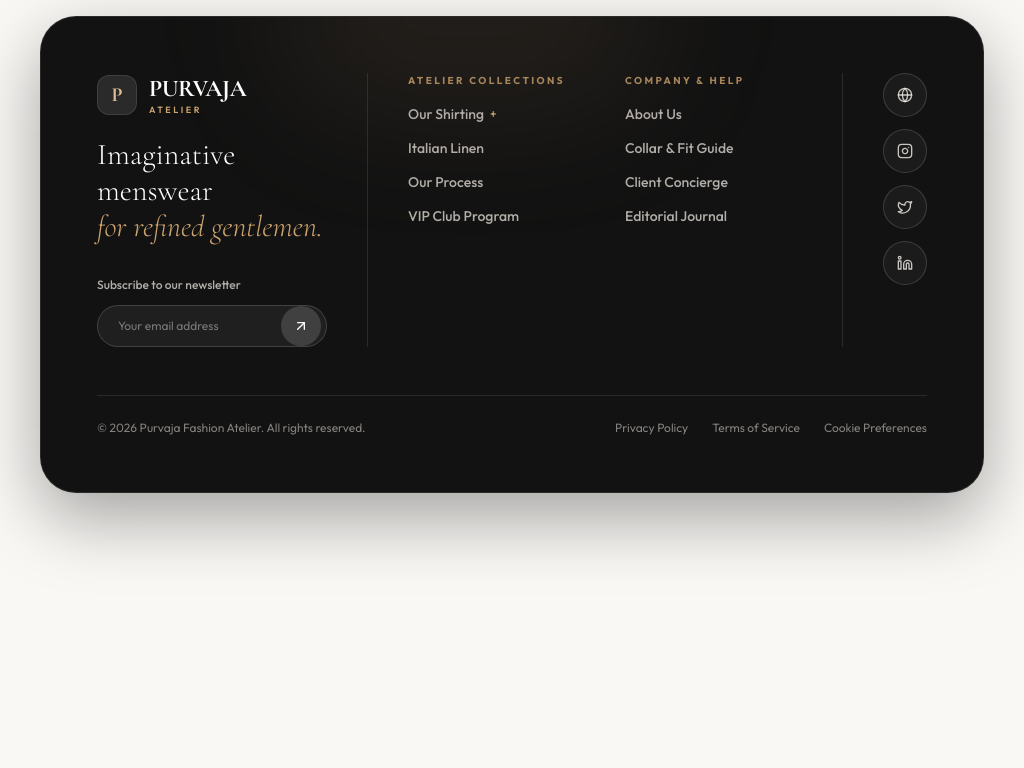
Footer newsletter consent › reports persisted consent without claiming provider delivery
In the field labelled "email address": (212,326) [97,304,327,346], type "shopper@example.test"
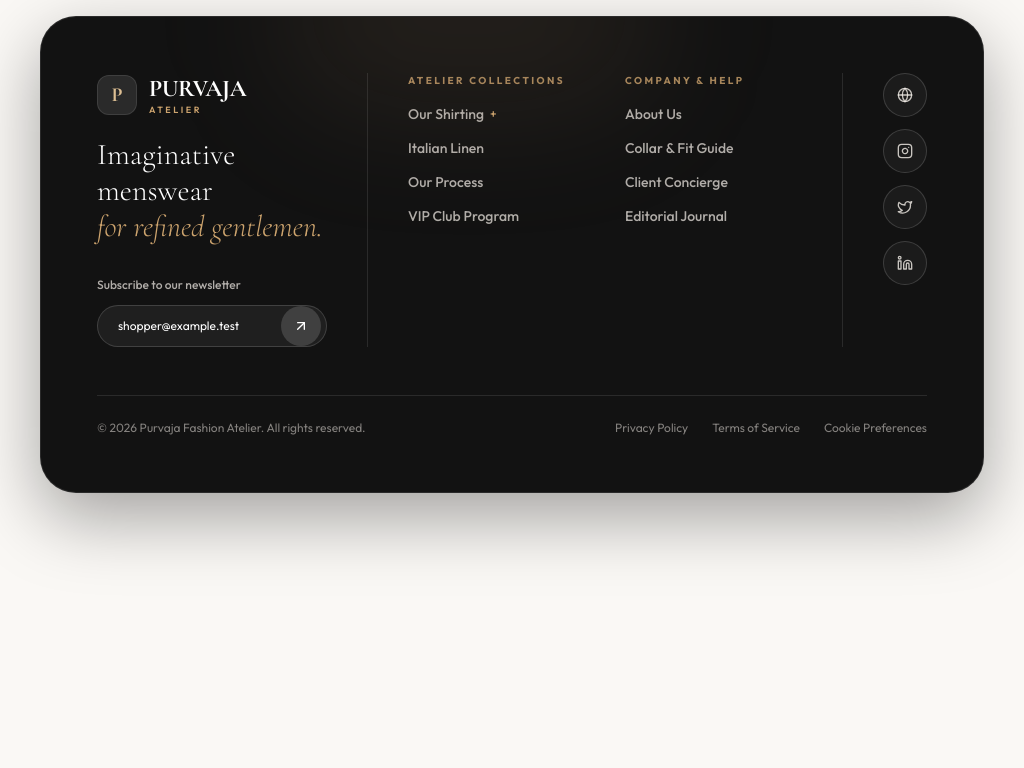
Click the button named "Subscribe to newsletter": (301,326) [281,306,321,346]
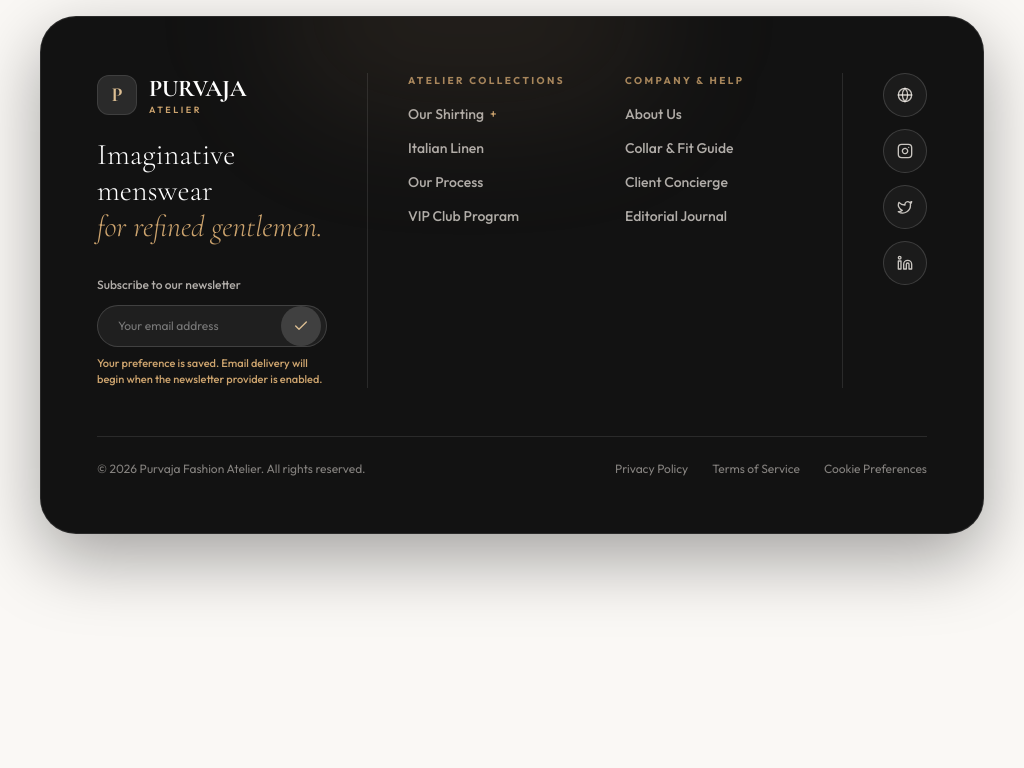
Expected: the message shows "preference is saved", [97,356,323,386]
Expected: the message shows "provider is enabled", [97,356,323,386]
